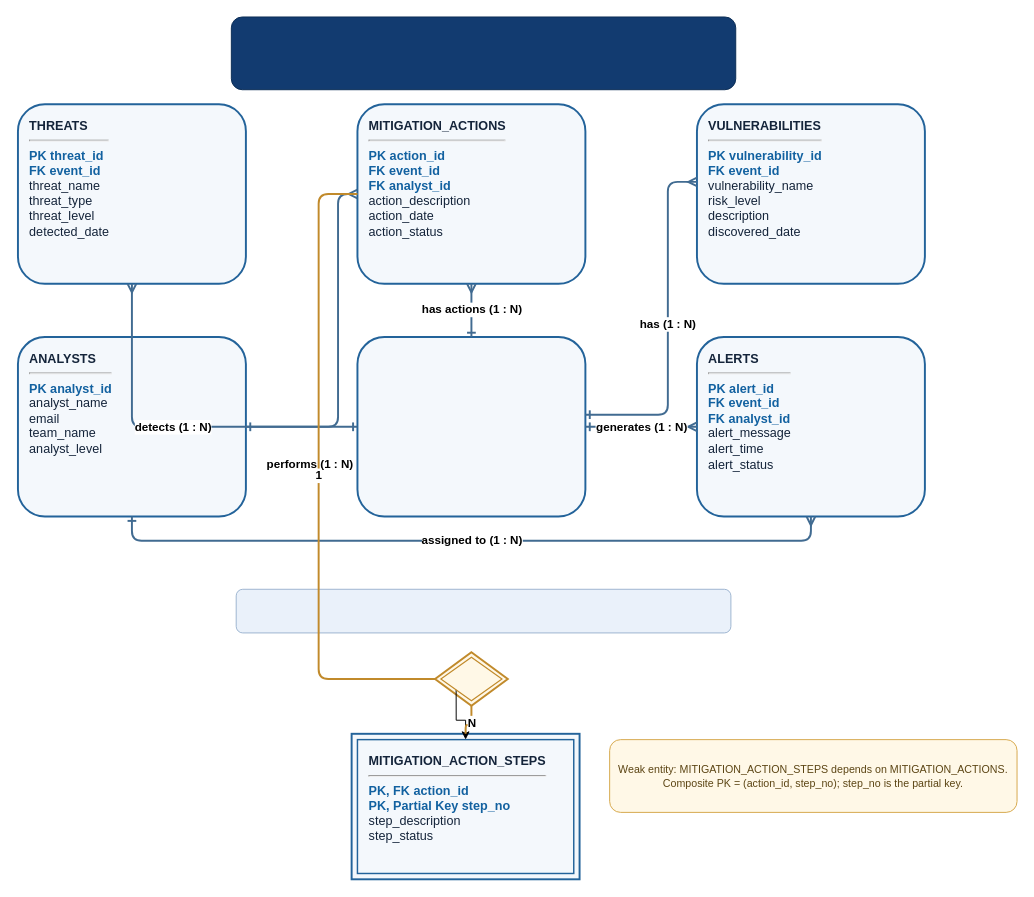
Image size: 1034x897. Some labels were removed from this diagram. Each missing label, with the box of its shape:
CYBERSECURITY INCIDENT RESPONSE SYSTEM Entity–Relationship Diagram: (230, 16, 736, 90)
HAS STEPS: (434, 651, 508, 706)
PK = Primary Key FK = Foreign Key 1 : N = One-to-Many: (235, 588, 731, 633)
SECURITY_EVENTS PK event_id source_ip event_type event_time severity status: (356, 336, 586, 517)
